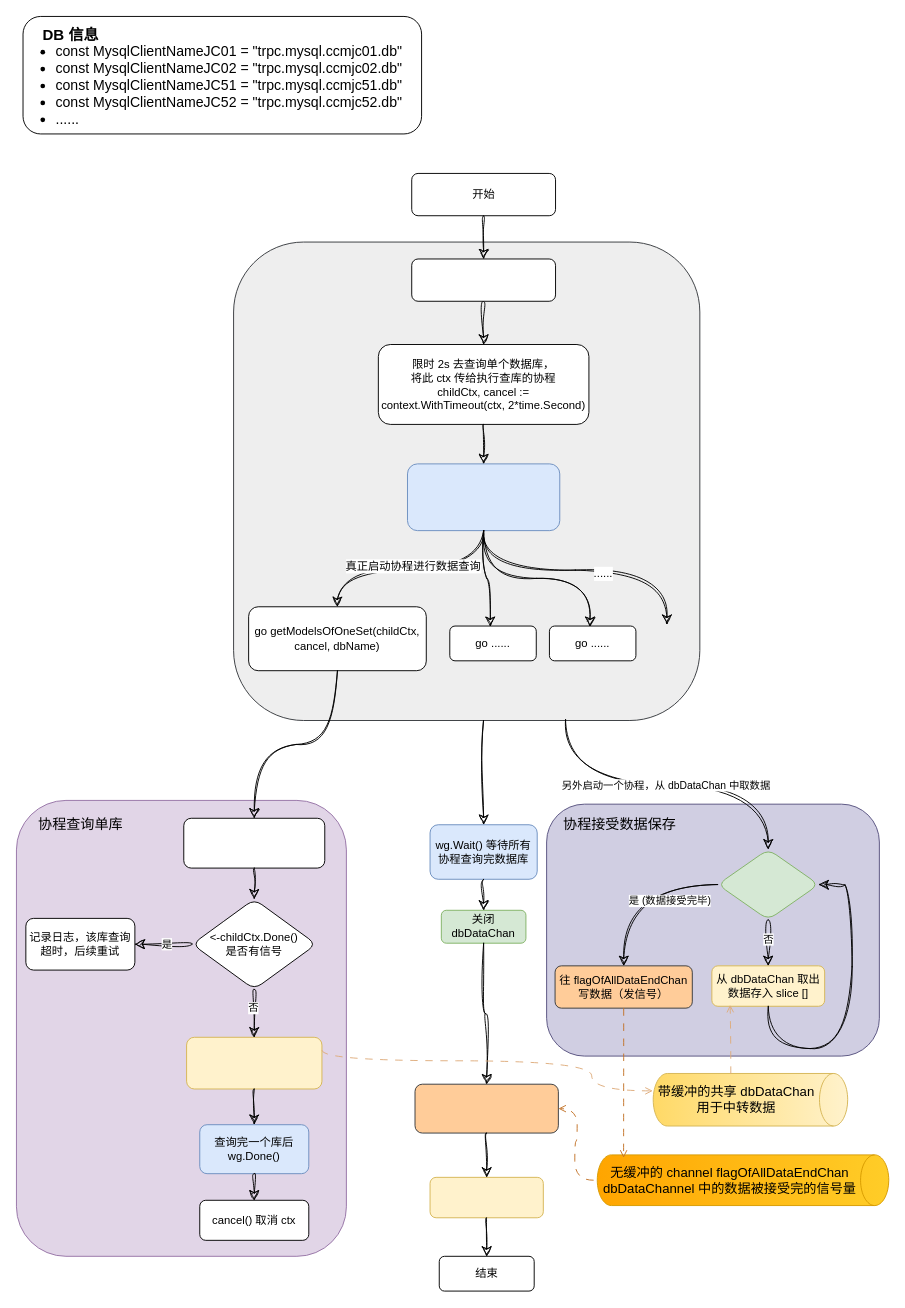
The diagram is 905 pixels wide and 1308 high, and some of its shapes have lost their labels. The shapes that lost their labels are listed below. From the top down, each one's box as (x1, y1, x2, y2) in pixels, then its label:
(411, 258, 556, 301): 遍历 DB 信息，准备启动 N 个协程，并行查 N 个库
(407, 463, 560, 531): wg.Add(1) 使用 WaitGroup 来等待 N 个协程都查询完毕
(183, 817, 325, 868): select 监听 childCtx.Done() 通道，防止超时
(717, 848, 819, 920): dbDataChan 是否关闭
(186, 1036, 322, 1089): 查询 DB，获取数据写入 dbDataChan
(414, 1083, 558, 1133): 阻塞等待数据接受完毕 <-flagOfAllDataEndChan
(429, 1176, 543, 1218): 返回数据 slice []
